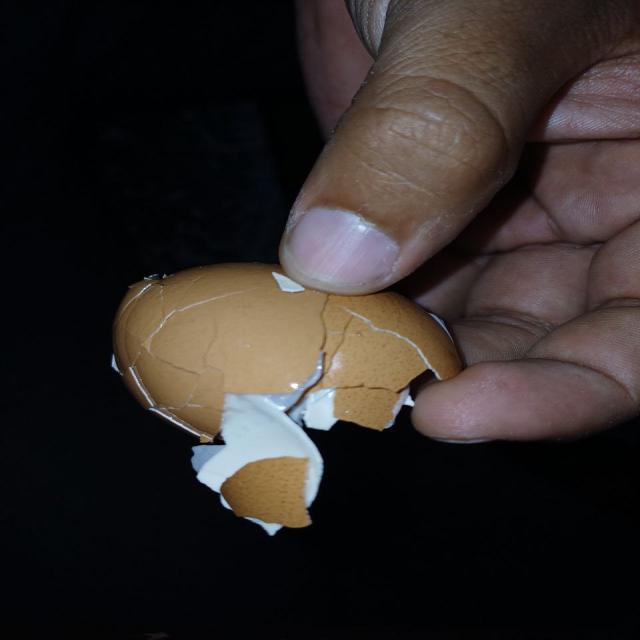organic: (114, 295, 470, 537)
